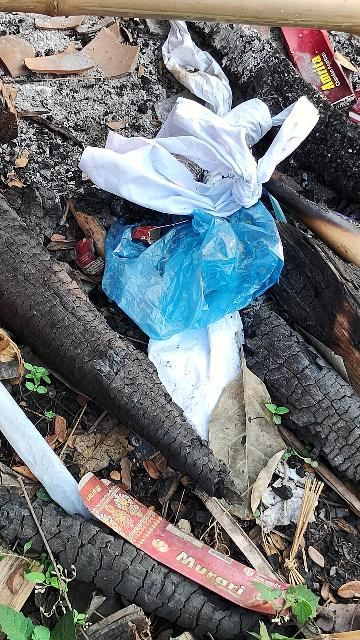polythene: (99, 194, 303, 322)
